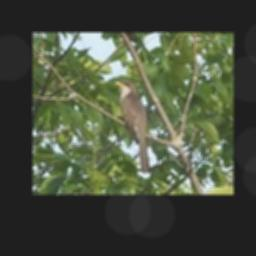Cuckoo: (113, 80, 150, 172)
